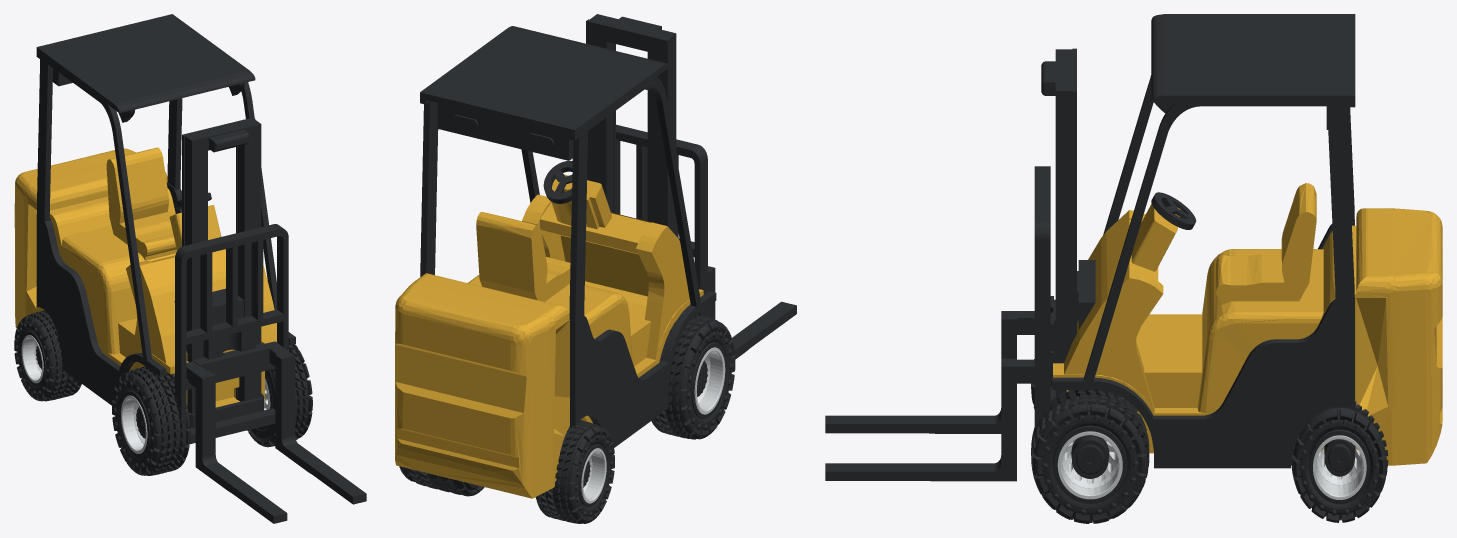
The model's file is tinker.obj.
The picture shows the model from 3 angles, left to right: view 1: azimuth 30°, elevation 25°; view 2: azimuth 150°, elevation 25°; view 3: azimuth 270°, elevation 25°; orthographic projection. The views are drawn at different scales.
Visible parts, largest first — view 1: group_0_2829873, group_0_14789940, group_0_14541540; view 2: group_0_2829873, group_0_14789940, group_0_14541540; view 3: group_0_2829873, group_0_14789940, group_0_14541540.
Part boxes in pixels (left/top/right/bottom): group_0_2829873: left=14, top=14, right=366, bottom=523; group_0_14789940: left=14, top=147, right=276, bottom=410; group_0_14541540: left=21, top=335, right=270, bottom=453; group_0_2829873: left=399, top=14, right=796, bottom=523; group_0_14789940: left=395, top=174, right=703, bottom=498; group_0_14541540: left=581, top=347, right=725, bottom=503; group_0_2829873: left=825, top=14, right=1388, bottom=523; group_0_14789940: left=1053, top=183, right=1442, bottom=465; group_0_14541540: left=1057, top=431, right=1366, bottom=499.
Bounding box in the file's own units: 33 × 68.5 × 90.
